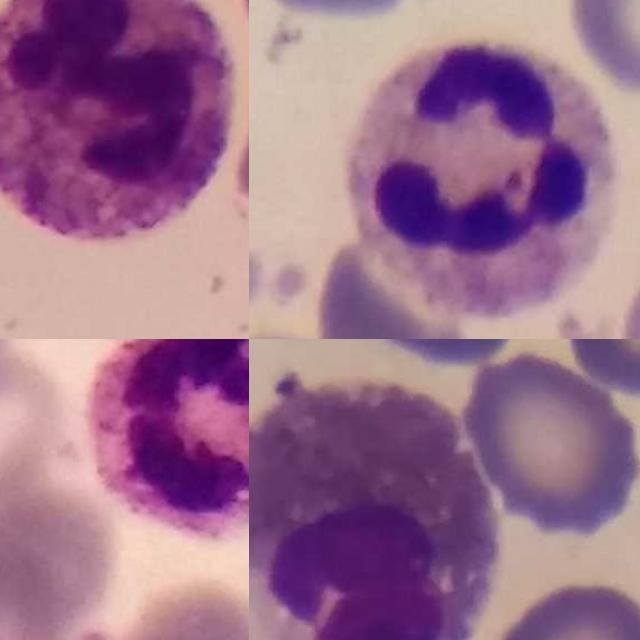Eosinophil: (249, 377, 504, 640)
Neutrophil: (345, 39, 616, 316), (0, 0, 233, 243), (86, 339, 249, 533)
